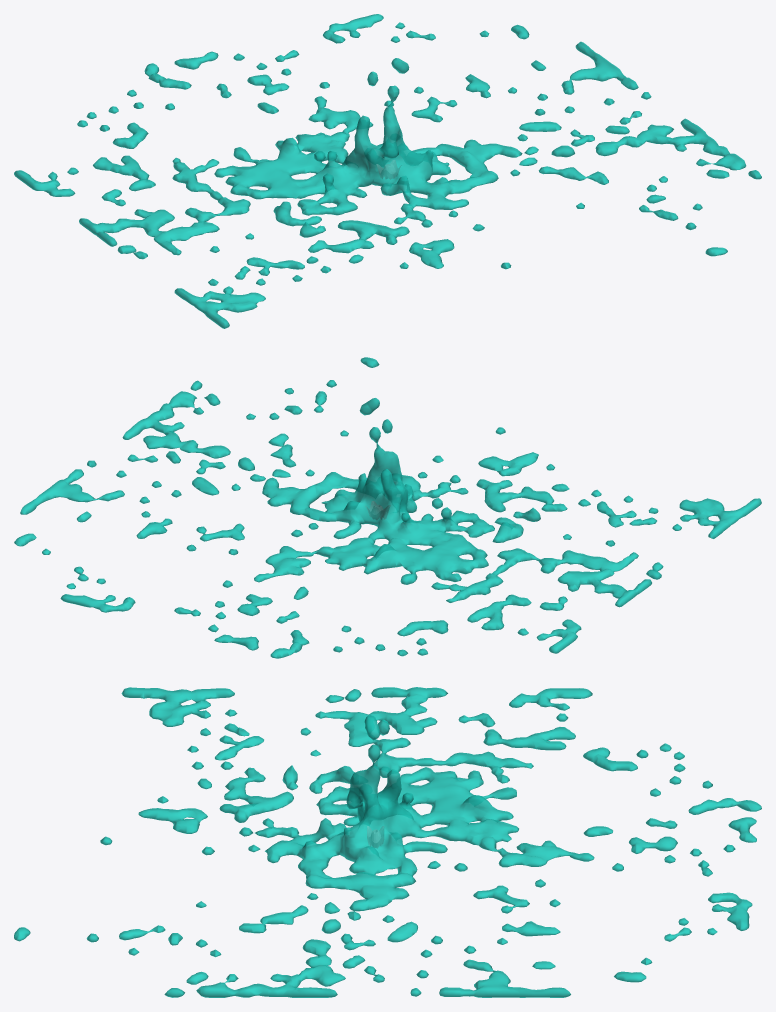
3 renders of one model, top to bottom at view 1: azimuth 30°, elevation 25°; view 2: azimuth 150°, elevation 25°; view 3: azimuth 270°, elevation 25°, orthographic. The views are drawn at different scales.
Parts seen in each view (by area): view 1: Liquid_Domain; view 2: Liquid_Domain; view 3: Liquid_Domain.
Part boxes in pixels (x1,y1,x2,y2): Liquid_Domain: [14, 14, 761, 328]; Liquid_Domain: [14, 357, 761, 658]; Liquid_Domain: [14, 687, 761, 997].
Bounding box in the file's own units: 12.43 × 2.58 × 12.91.
